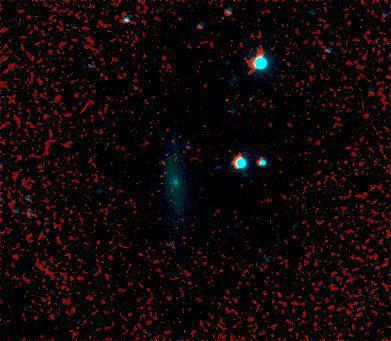star: (208, 86, 238, 116)
